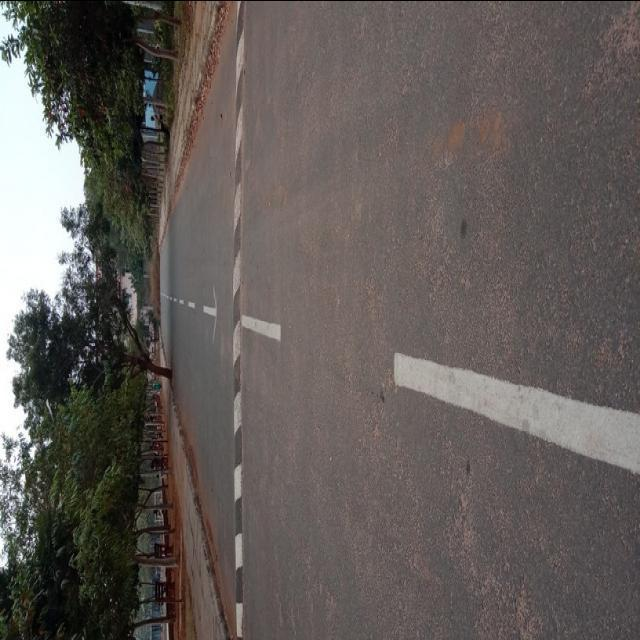speedbreaker: (226, 8, 250, 606)
